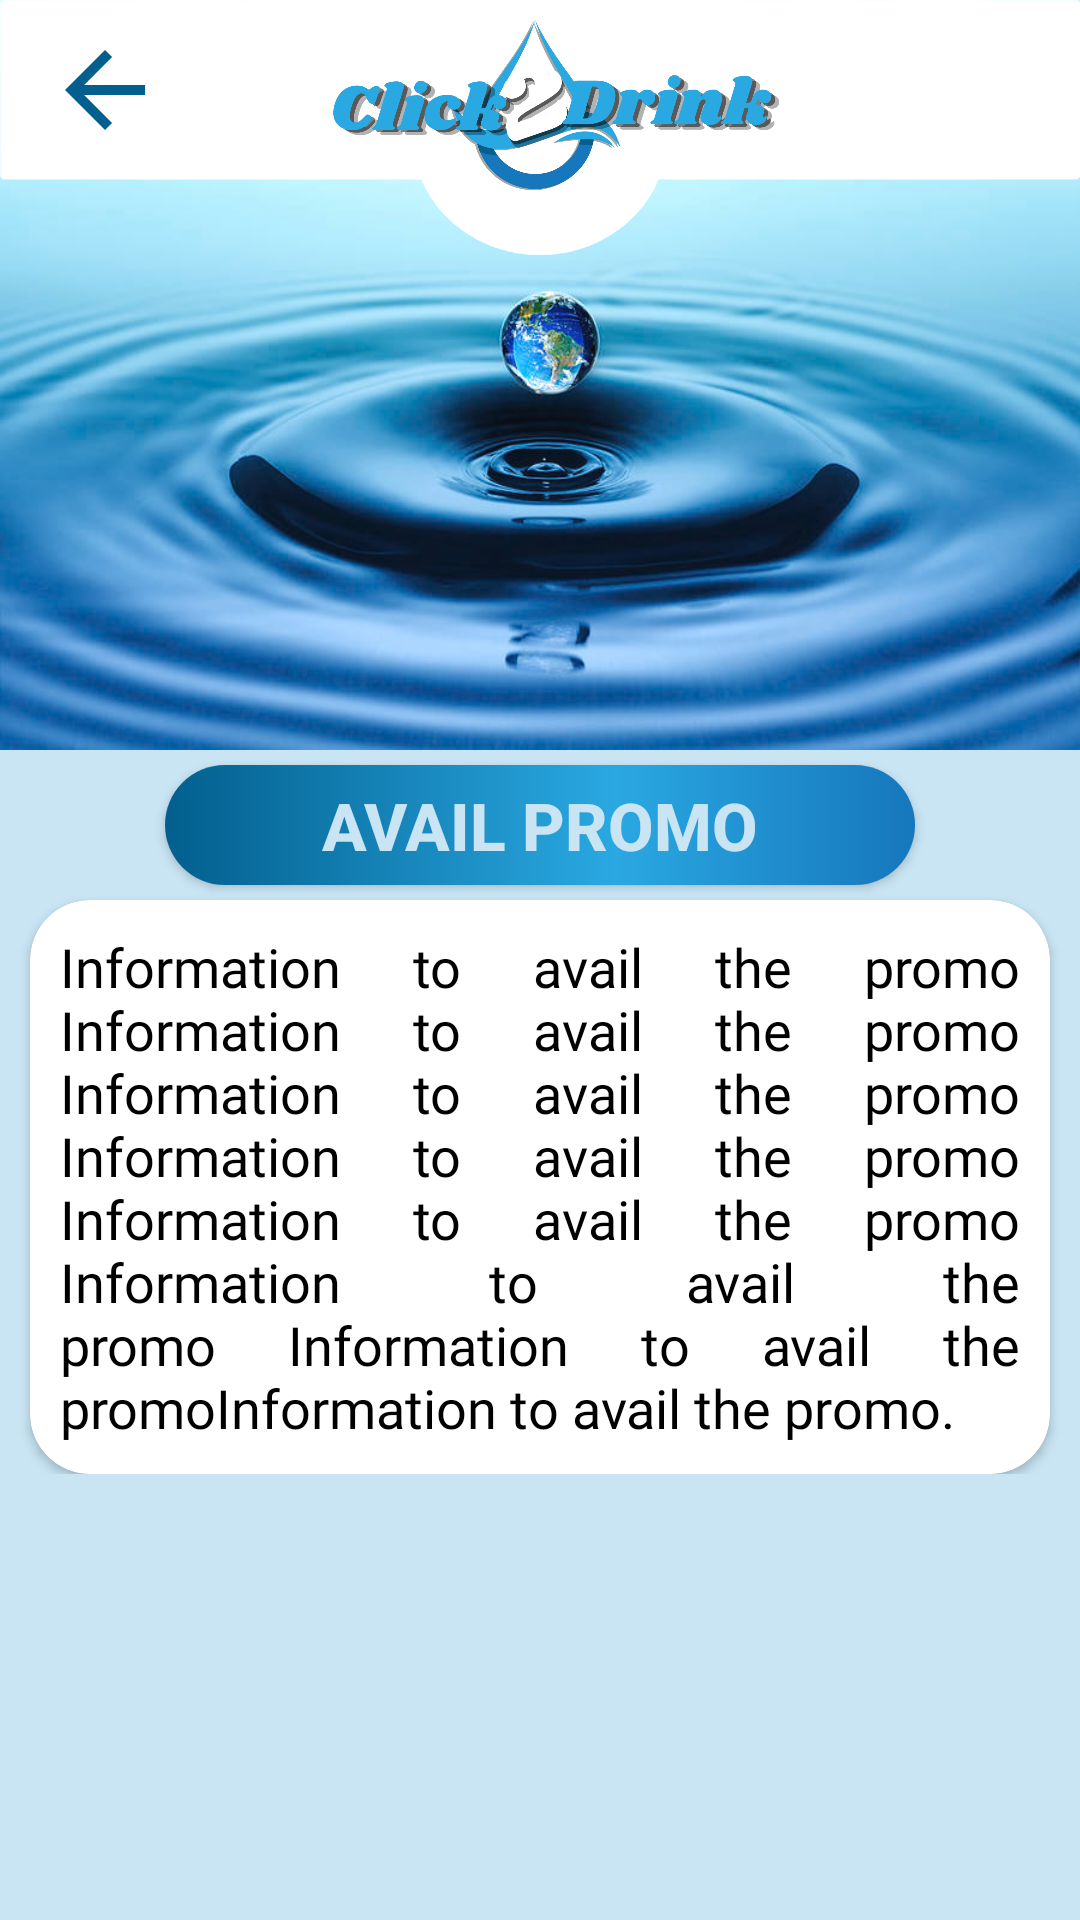

Icon click points for this 1080 × 1920 phone screenshot, format point (x, y):
back: point (105, 90)
